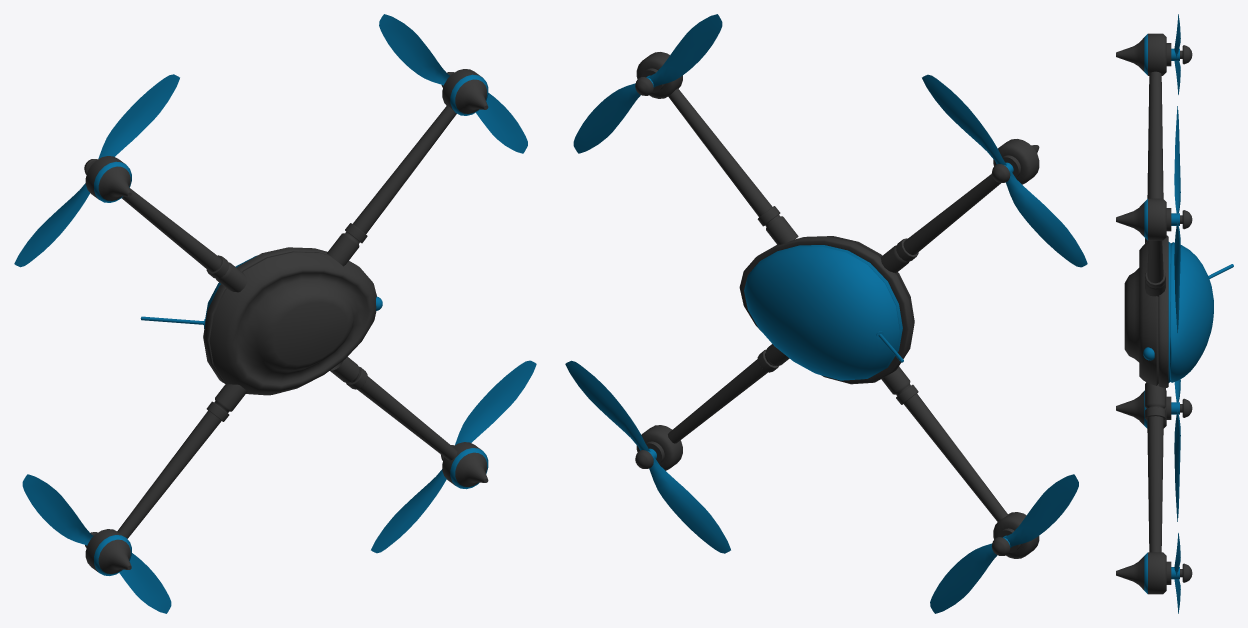
Rendered from quadcopter.obj.
The picture shows the model from 3 angles, left to right: view 1: azimuth 30°, elevation 25°; view 2: azimuth 150°, elevation 25°; view 3: azimuth 270°, elevation 25°; orthographic projection. The views are drawn at different scales.
Size of the model in its own units: 0.4236 by 0.4236 by 0.0874.
